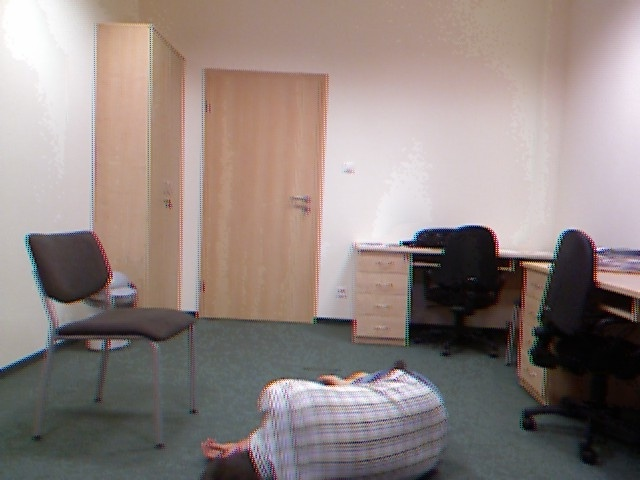fall: (186, 363, 456, 480)
